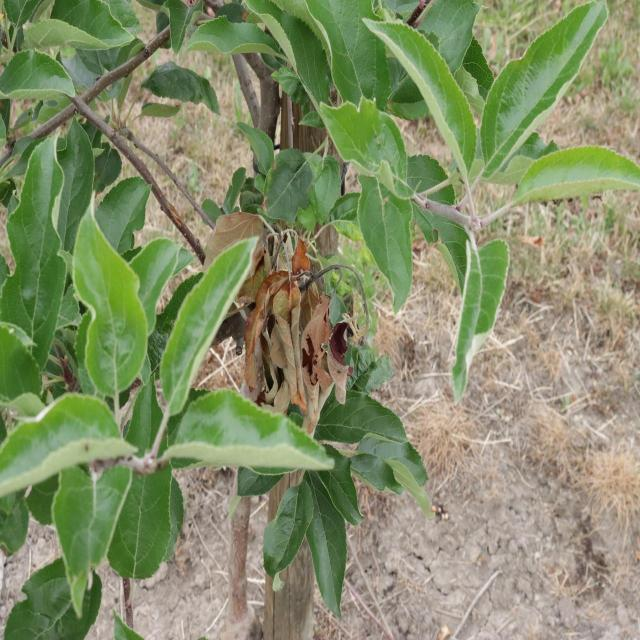-FireBlight-: (258, 240, 354, 430)
